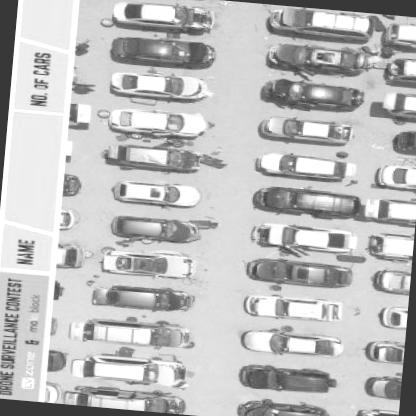car: (262, 42, 372, 84), (72, 354, 190, 390), (69, 316, 192, 349), (251, 184, 359, 221), (108, 34, 216, 70), (259, 79, 363, 116), (244, 256, 352, 290), (248, 221, 357, 254), (266, 6, 376, 38), (87, 282, 193, 315), (109, 0, 216, 32), (236, 361, 332, 396), (108, 107, 212, 138), (240, 328, 340, 360), (110, 70, 212, 101), (256, 113, 352, 145), (108, 214, 203, 245), (99, 249, 193, 280), (255, 150, 350, 180), (104, 143, 198, 172), (243, 294, 335, 323), (112, 181, 201, 210), (236, 396, 329, 415), (373, 158, 415, 191), (383, 54, 415, 90), (370, 268, 411, 295), (377, 89, 415, 118), (364, 338, 404, 364), (364, 374, 401, 401), (384, 19, 415, 50), (376, 304, 406, 330), (390, 127, 415, 157), (64, 389, 96, 406), (354, 404, 399, 415)
